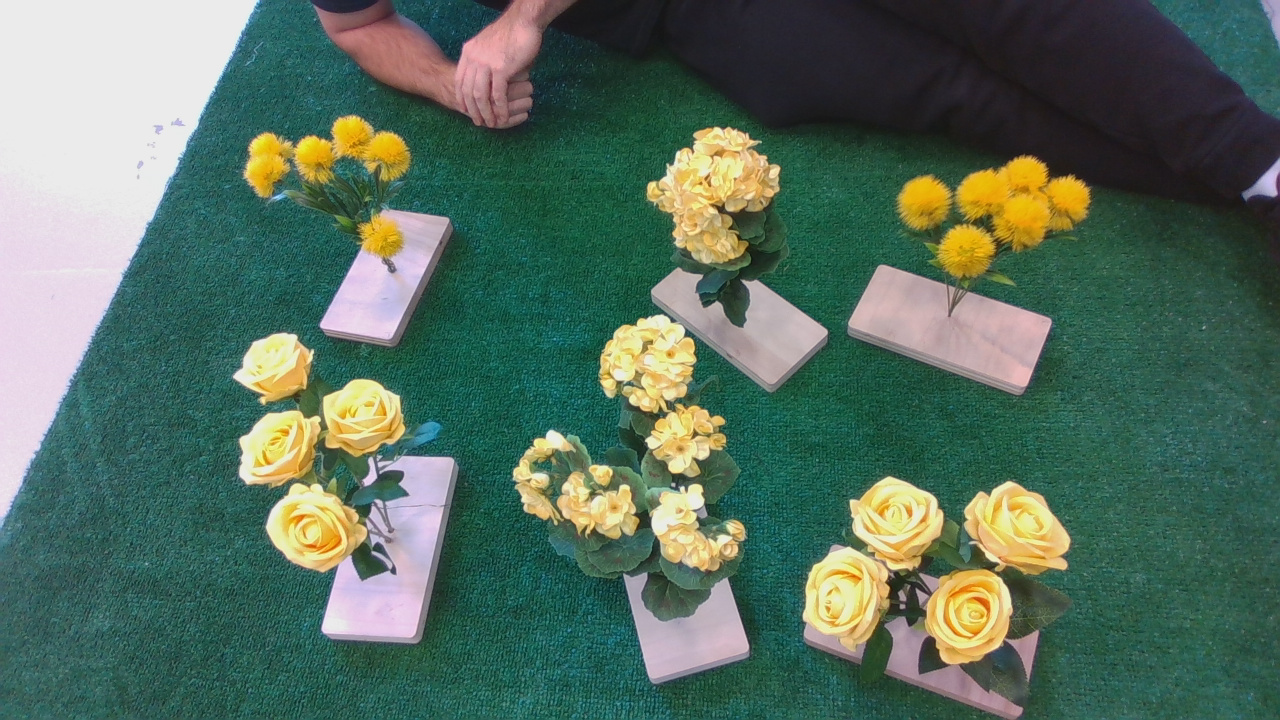dandelion: (890, 138, 1101, 293), (243, 117, 425, 264)
geranium: (510, 320, 767, 629), (646, 124, 803, 301)
rose: (799, 452, 1088, 703), (235, 333, 451, 587)
